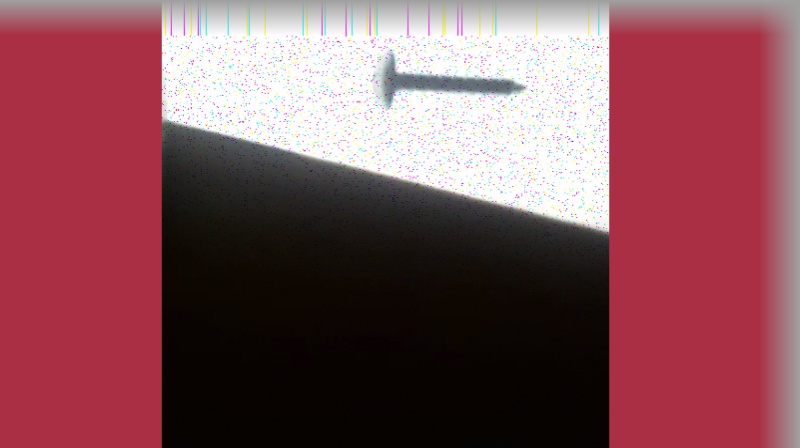S003: (365, 46, 530, 113)
